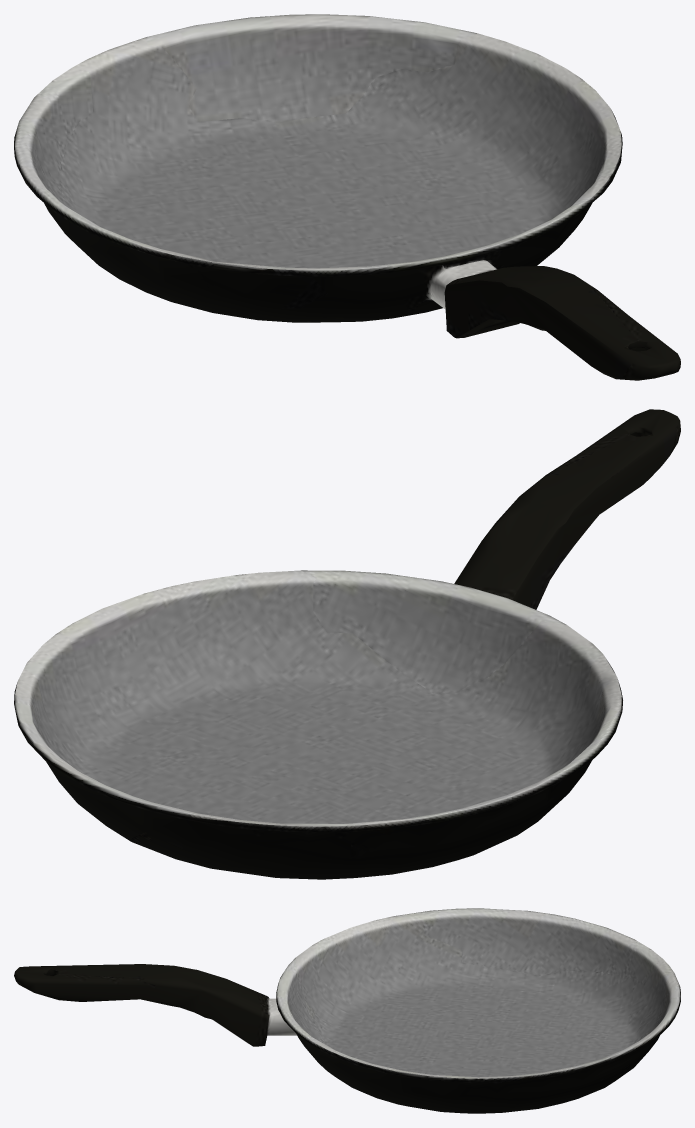
3 renders of one model, top to bottom at view 1: azimuth 30°, elevation 25°; view 2: azimuth 150°, elevation 25°; view 3: azimuth 270°, elevation 25°, orthographic. The views are drawn at different scales.
Visible parts, largest first — view 1: KAVALKAD; view 2: KAVALKAD; view 3: KAVALKAD.
Part boxes in pixels (box(x1,y1,x2,y2)): KAVALKAD: box(14, 14, 680, 380); KAVALKAD: box(14, 409, 680, 879); KAVALKAD: box(14, 908, 680, 1113).
Bounding box in the file's own units: 25.73 × 5.58 × 42.33.
